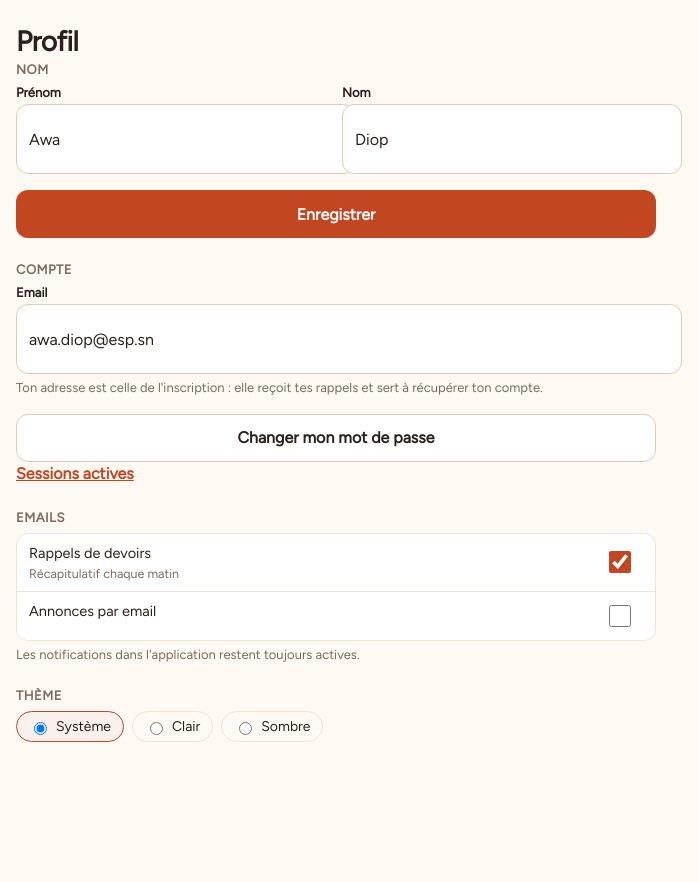
Scenario: profil (P10, M14) › mot de passe actuel incorrect : message sous le champ, contenu conservé
Expected: the heading "Profil" is shown, x1=16 y1=24 x2=78 y2=58
Click the button "Changer mon mot de passe": x=336, y=438 x1=16 y1=414 x2=656 y2=462
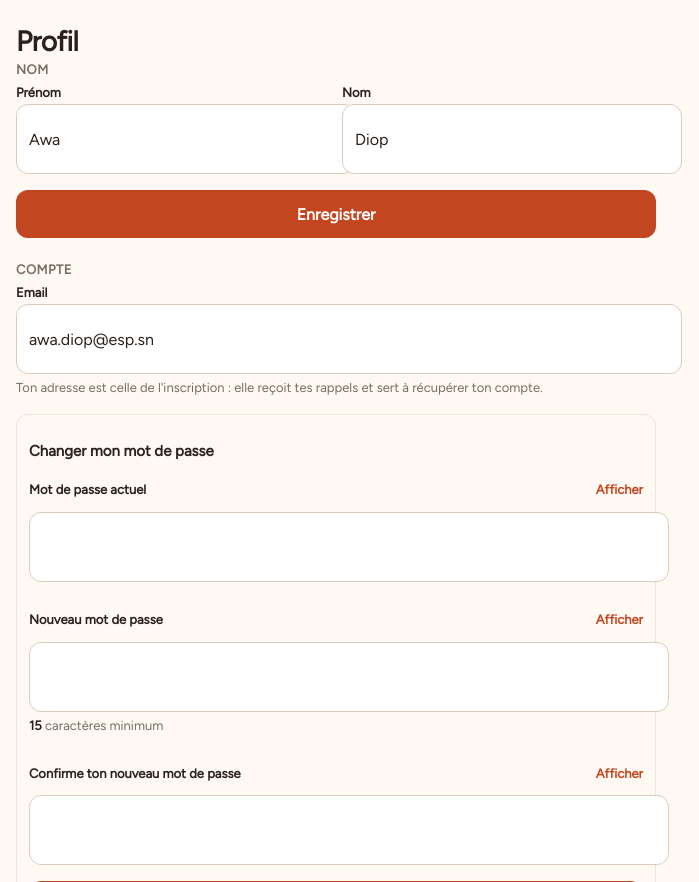
In the password field labelled "Mot de passe actuel": x=349, y=546 x1=29 y1=512 x2=669 y2=582, type "ancien mot de passe actuel"
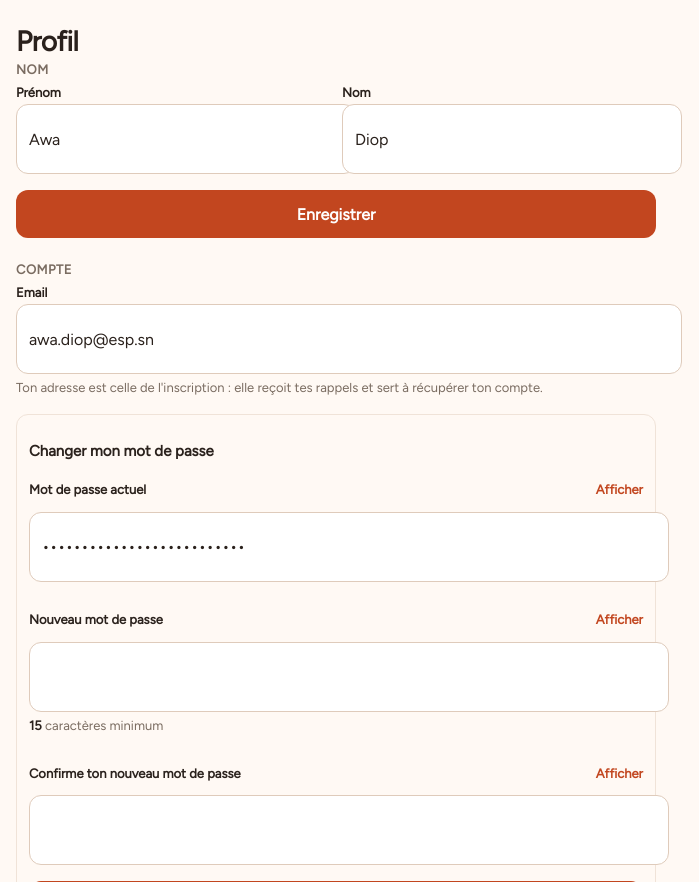
In the password field labelled "Nouveau mot de passe": x=349, y=676 x1=29 y1=642 x2=669 y2=712, type "une phrase de passe neuve"
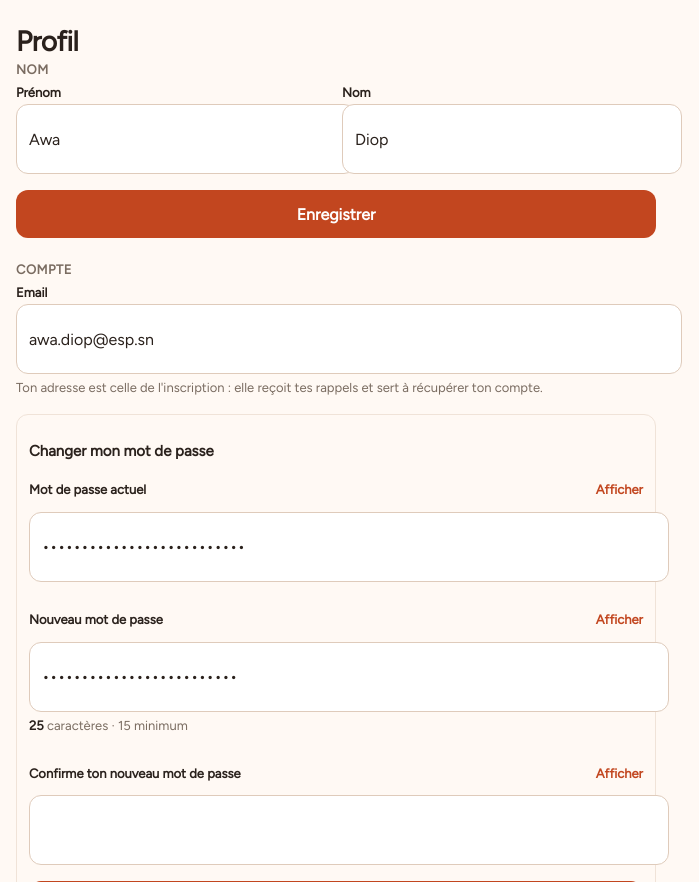
In the password field labelled "Confirme ton nouveau mot de passe": x=349, y=830 x1=29 y1=795 x2=669 y2=865, type "une phrase de passe neuve"
(page scrolled)
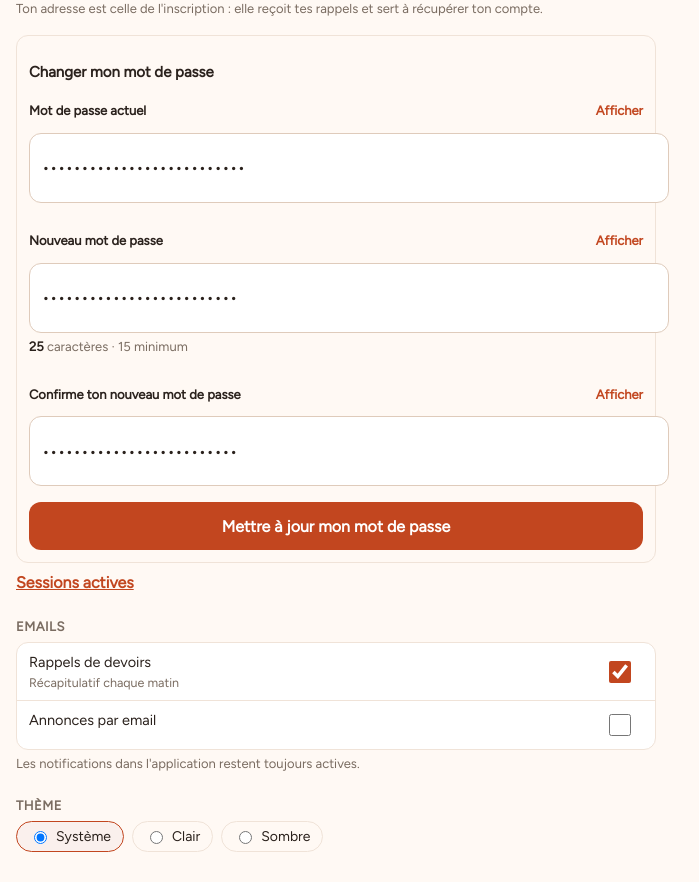
Click the button "Mettre à jour mon mot de passe": x=336, y=526 x1=29 y1=502 x2=643 y2=550
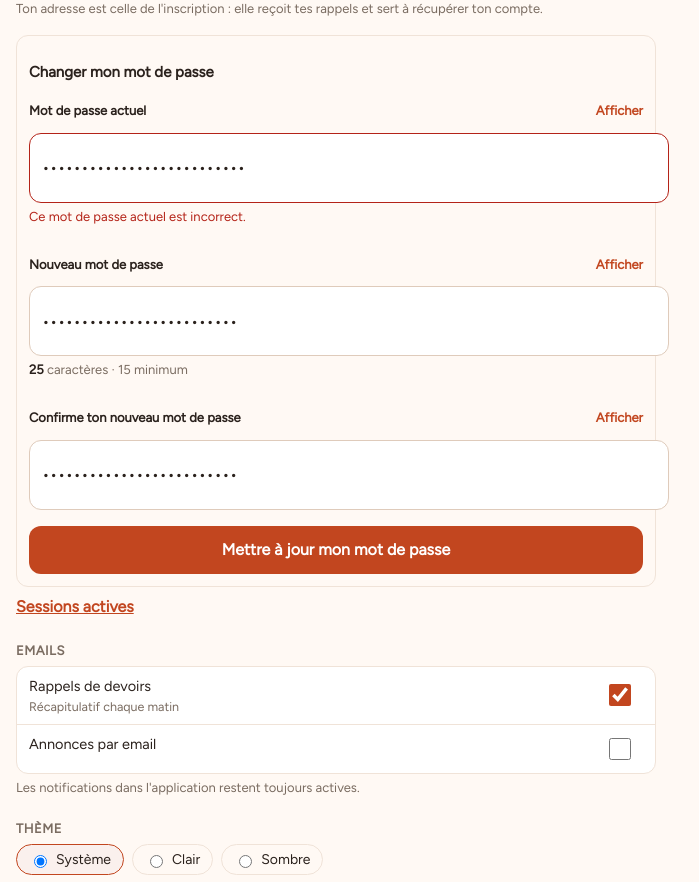
Result: the text "Ce mot de passe actuel est incorrect." is shown at x1=29 y1=208 x2=246 y2=224
